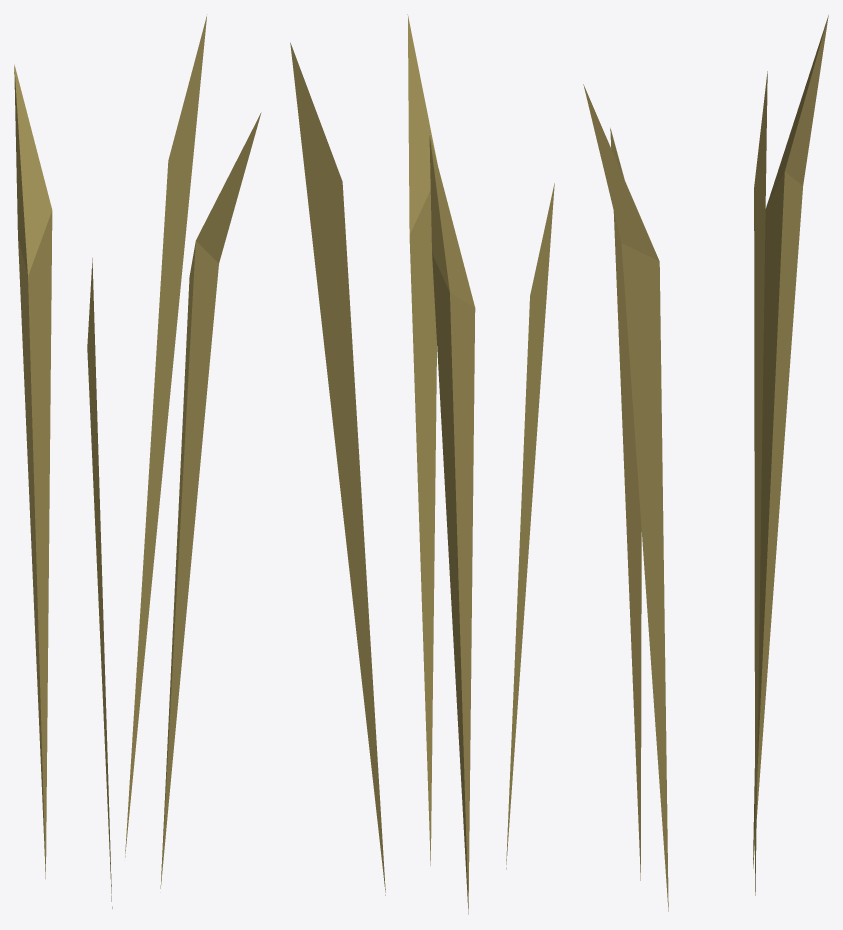
The model's file is Wheat.lod3.glb.
3 views of the same model, side by side, from view 1: azimuth 30°, elevation 25°; view 2: azimuth 150°, elevation 25°; view 3: azimuth 270°, elevation 25° (orthographic). The views are drawn at different scales.
Parts seen in each view (by area): view 1: Wheat; view 2: Wheat; view 3: Wheat.
Part boxes in pixels (x1,y1,x2,y2): Wheat: [14, 14, 261, 908]; Wheat: [290, 14, 554, 914]; Wheat: [583, 15, 828, 911].
Bounding box in the file's own units: 0.2304 × 0.9677 × 0.241.
